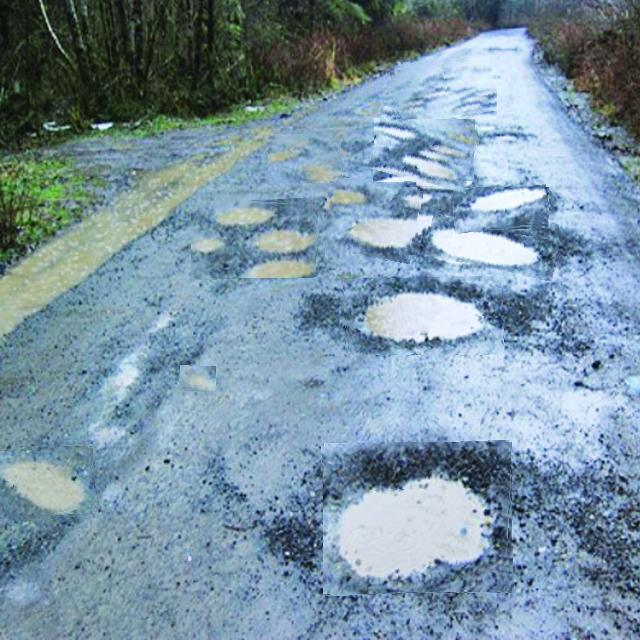Pothole: (323, 442, 513, 594), (344, 277, 504, 355), (191, 198, 318, 278), (371, 112, 478, 188), (325, 179, 420, 261), (427, 220, 559, 276), (0, 446, 95, 521), (392, 58, 497, 119), (452, 187, 549, 232), (268, 131, 344, 187), (180, 366, 216, 391)
